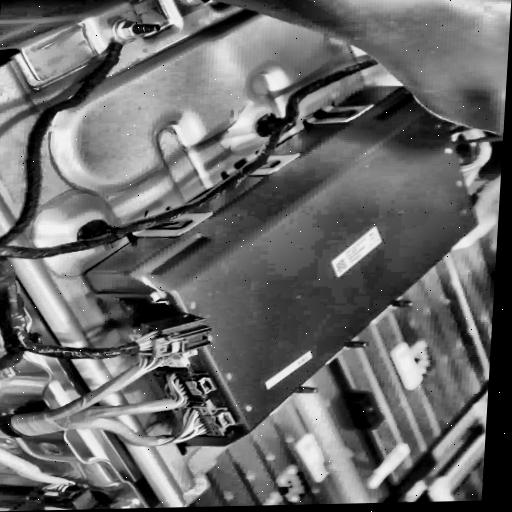bms_unit: (86, 85, 480, 448)
high_volt_cable: (0, 348, 231, 453), (0, 445, 83, 493)
low_volt_cable: (0, 40, 379, 364)
